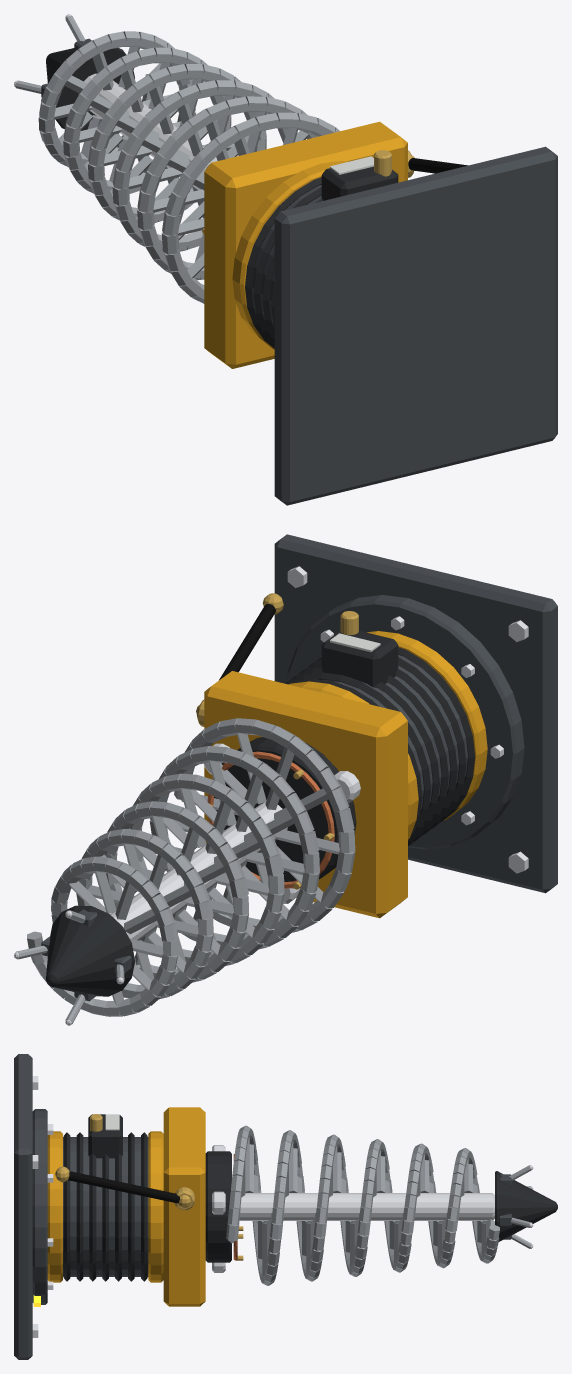
File: mining_head_small.glb
3 views of the same model, one above another, from view 1: azimuth 30°, elevation 25°; view 2: azimuth 150°, elevation 25°; view 3: azimuth 270°, elevation 25° (orthographic). The views are drawn at different scales.
Visible parts, largest first — view 1: mining_head_small; view 2: mining_head_small; view 3: mining_head_small.
Part boxes in pixels (bbox=[...]): mining_head_small: bbox=[14, 14, 557, 505]; mining_head_small: bbox=[14, 534, 557, 1025]; mining_head_small: bbox=[14, 1054, 557, 1359].
Size of the model in its own units: 0.6 by 0.6 by 1.4.
